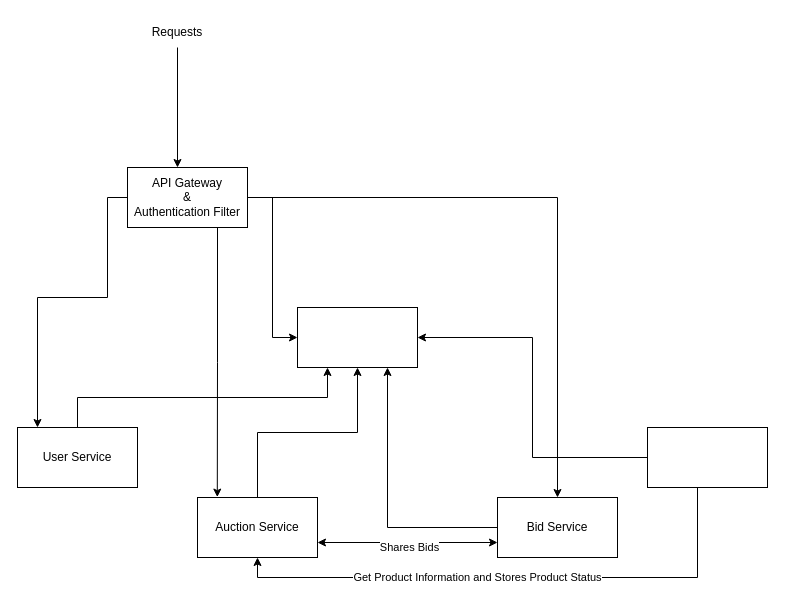
Image size: 785x603. Some labels were removed from this diagram. Each missing label, with the centre of its shape:
Product Service: (x=707, y=457)
Service Registry: (x=357, y=337)
